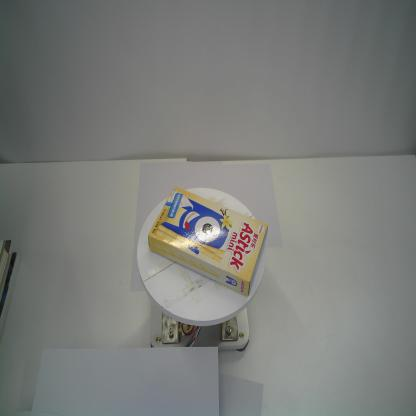Dessert: (148, 185, 268, 297)
